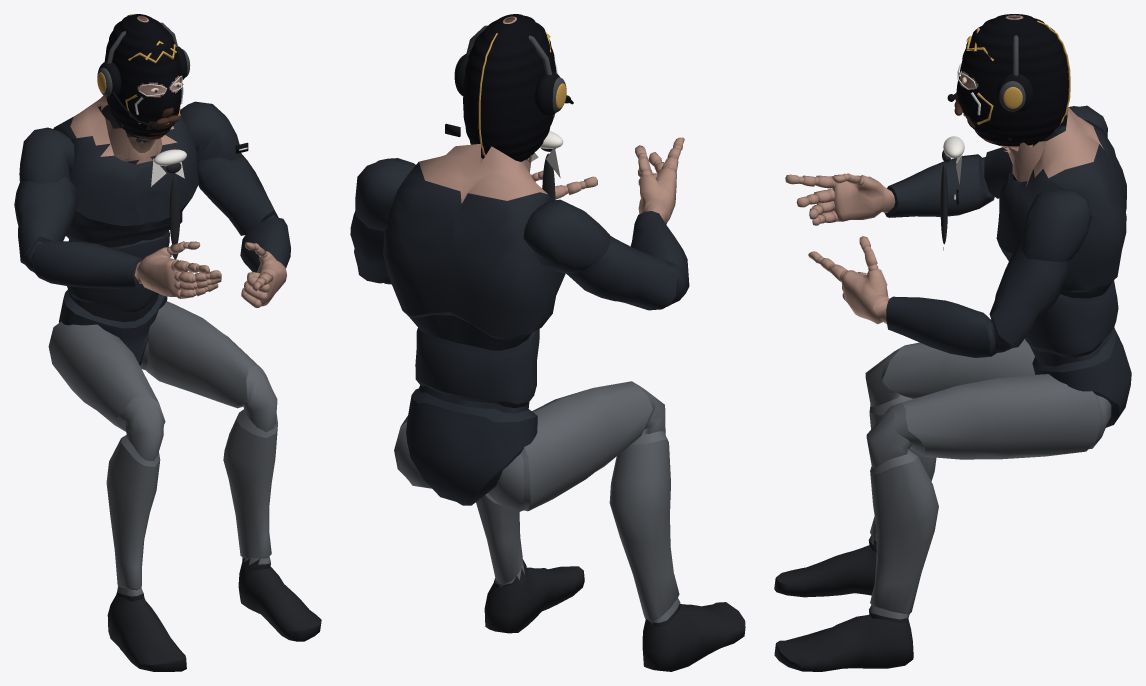
File: commentator_excalibur.glb
3 renders of one model, left to right at view 1: azimuth 30°, elevation 25°; view 2: azimuth 150°, elevation 25°; view 3: azimuth 270°, elevation 25°, orthographic. The views are drawn at different scales.
Parts seen in each view (by area): view 1: ExcaliburRightArm, ExcaliburLeftArm, ExcaliburSeatedBody, ExcaliburFullHeadMaskShell, ExcaliburTailoring, ExcaliburBroadcastHeadsetCups; view 2: ExcaliburSeatedBody, ExcaliburRightArm, ExcaliburLeftArm, ExcaliburFullHeadMaskShell, ExcaliburBroadcastHeadsetCups, ExcaliburTailoring; view 3: ExcaliburLeftArm, ExcaliburRightArm, ExcaliburSeatedBody, ExcaliburFullHeadMaskShell, ExcaliburTailoring, ExcaliburBroadcastHeadsetCups.
Boxes of the visible parts, left/top/right/bottom form: ExcaliburRightArm: left=14, top=127, right=221, bottom=671; ExcaliburLeftArm: left=140, top=101, right=321, bottom=641; ExcaliburSeatedBody: left=53, top=95, right=182, bottom=365; ExcaliburFullHeadMaskShell: left=104, top=14, right=181, bottom=139; ExcaliburTailoring: left=151, top=142, right=248, bottom=259; ExcaliburBroadcastHeadsetCups: left=97, top=46, right=190, bottom=98; ExcaliburSeatedBody: left=383, top=143, right=565, bottom=505; ExcaliburRightArm: left=484, top=137, right=745, bottom=671; ExcaliburLeftArm: left=350, top=158, right=597, bottom=633; ExcaliburFullHeadMaskShell: left=463, top=14, right=556, bottom=161; ExcaliburBroadcastHeadsetCups: left=454, top=54, right=566, bottom=116; ExcaliburTailoring: left=445, top=123, right=563, bottom=200; ExcaliburLeftArm: left=774, top=169, right=1111, bottom=671; ExcaliburRightArm: left=774, top=105, right=1107, bottom=597; ExcaliburSeatedBody: left=1000, top=107, right=1131, bottom=427; ExcaliburFullHeadMaskShell: left=956, top=14, right=1068, bottom=146; ExcaliburTailoring: left=940, top=136, right=964, bottom=250; ExcaliburBroadcastHeadsetCups: left=997, top=73, right=1033, bottom=113.
Size of the model in its own units: 0.7062 by 1.45 by 0.7691.
16 materials, 2 textured.
